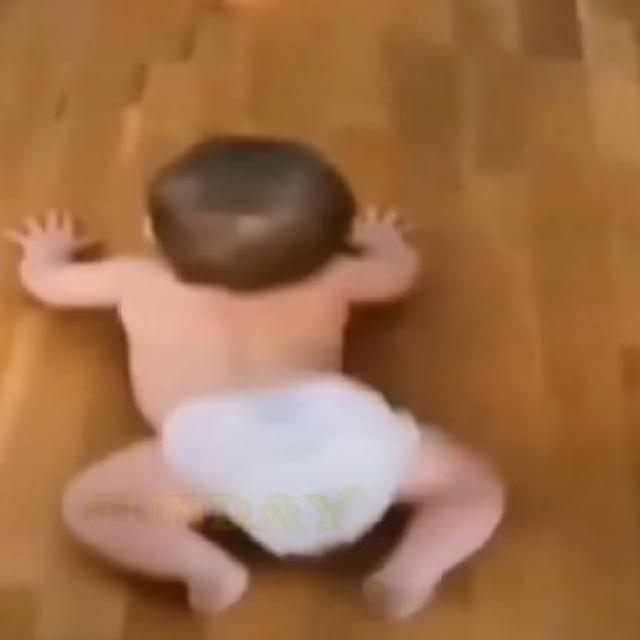baby: (3, 134, 504, 622)
